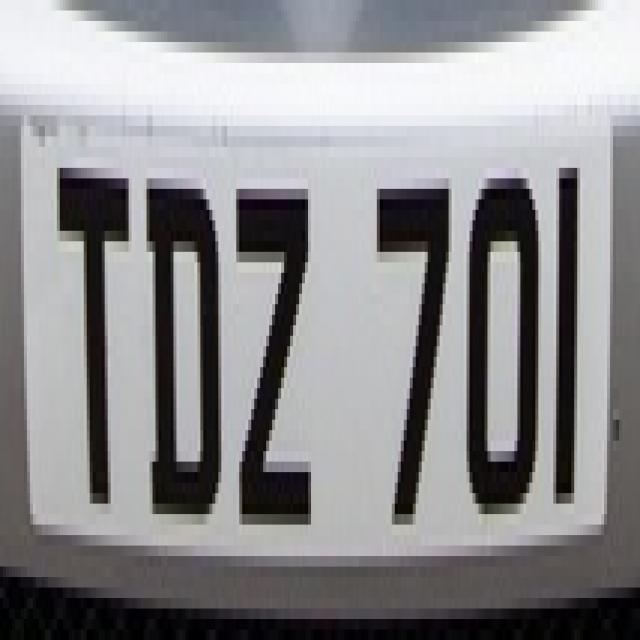licenseplate: (14, 7, 630, 592)
